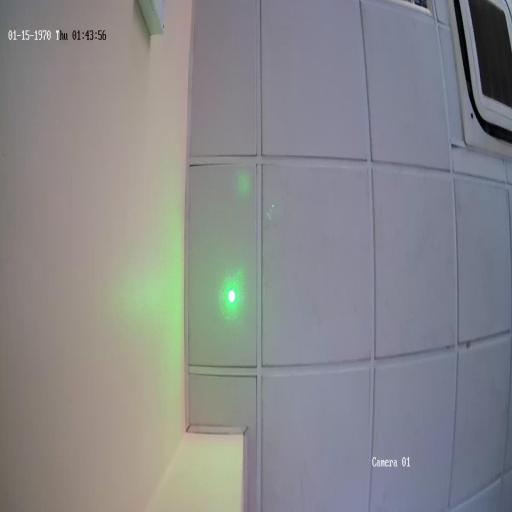laser: (215, 266, 250, 323)
